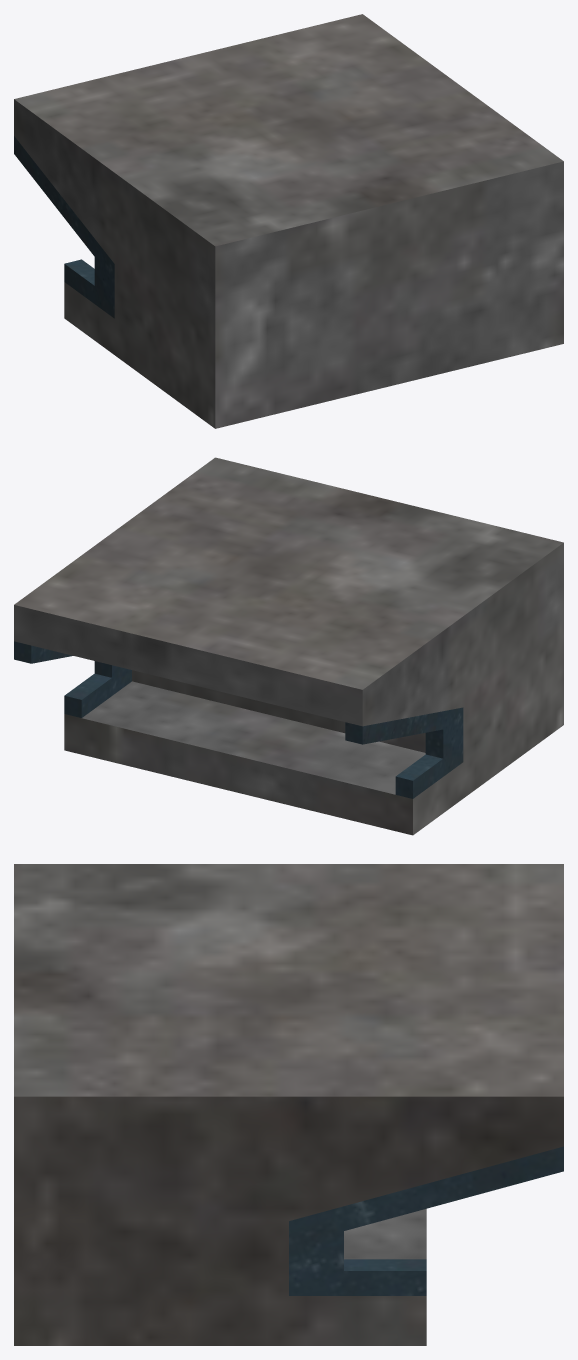
File: ConsoleModuleCenter.fbx
3 views of the same model, one above another, from view 1: azimuth 30°, elevation 25°; view 2: azimuth 150°, elevation 25°; view 3: azimuth 270°, elevation 25° (orthographic). The views are drawn at different scales.
Visible parts, largest first — view 1: Console Module Center; view 2: Console Module Center; view 3: Console Module Center.
Boxes of the visible parts, x1,y1,x2,y2 form: Console Module Center: [14, 14, 563, 428]; Console Module Center: [14, 457, 563, 835]; Console Module Center: [14, 864, 563, 1345].
Bounding box in the file's own units: 2.4 × 2.4 × 1.2.
2 materials, 2 textured.
